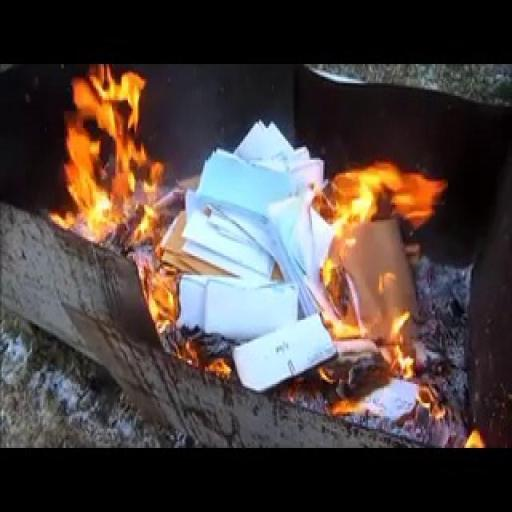smoke: (40, 98, 174, 269), (306, 156, 408, 365)
